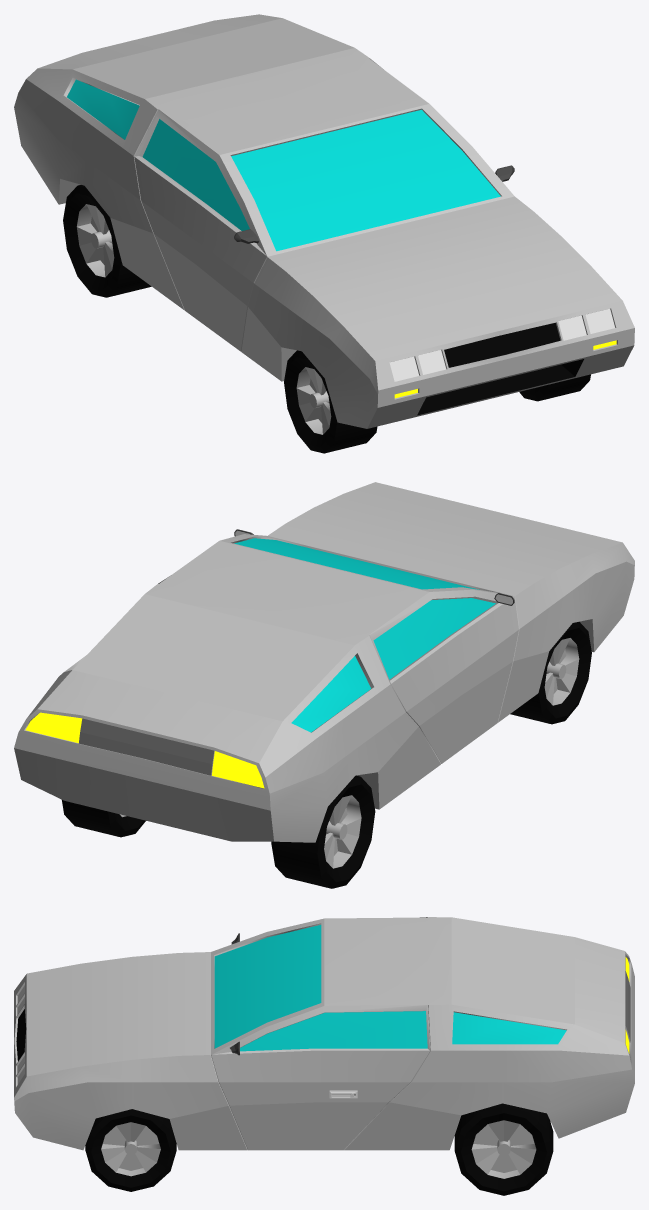
File: Delorian clear version(1lvl).fbx
3 views of the same model, one above another, from view 1: azimuth 30°, elevation 25°; view 2: azimuth 150°, elevation 25°; view 3: azimuth 270°, elevation 25° (orthographic). The views are drawn at different scales.
Visible parts, largest first — view 1: car, wheel.002, wheel.003, wheel; view 2: car, wheel.002, wheel.003, wheel.001; view 3: car, wheel.001, wheel.
Part boxes in pixels (left/top/right/bottom): car: left=14, top=14, right=634, bottom=428; wheel.002: left=63, top=185, right=151, bottom=297; wheel.003: left=284, top=350, right=377, bottom=453; wheel: left=519, top=374, right=590, bottom=401; car: left=14, top=482, right=634, bottom=842; wheel.002: left=271, top=775, right=375, bottom=888; wheel.003: left=510, top=621, right=591, bottom=724; wheel.001: left=62, top=800, right=145, bottom=837; car: left=14, top=917, right=634, bottom=1150; wheel.001: left=454, top=1103, right=553, bottom=1195; wheel: left=85, top=1109, right=176, bottom=1191.
Bounding box in the file's own units: 1380 × 1004 × 3113.
